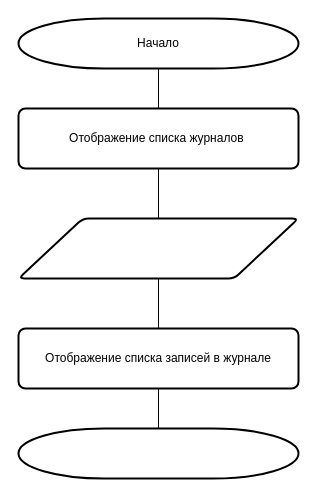
The diagram is 316 pixels wide and 496 high, and some of its shapes have lost their labels. The box of each missing label's shape, as (x1, y1, x2, y2) in pixels:
Выбор журнала: (17, 217, 299, 279)
Конец: (17, 427, 299, 479)
